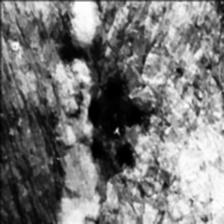Potentially Malignant Skin Tumors: (75, 88, 145, 176)
